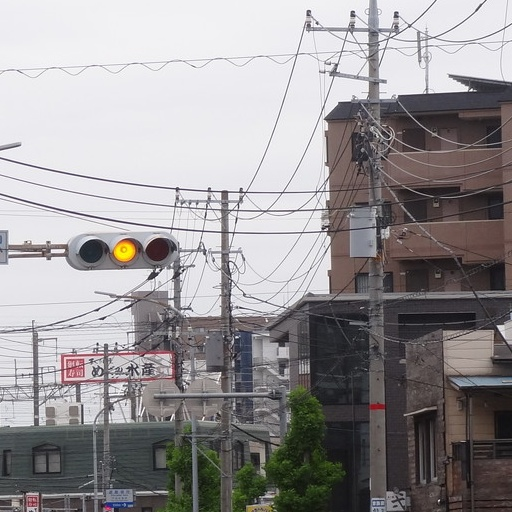Traffic_Signal_Yellow: (66, 227, 183, 270)
